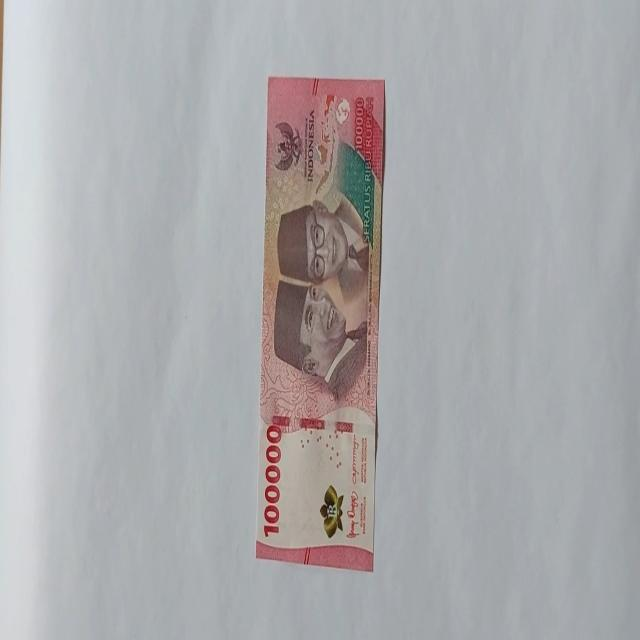seratus ribu rupiah: (254, 75, 386, 570), (272, 194, 370, 400)
